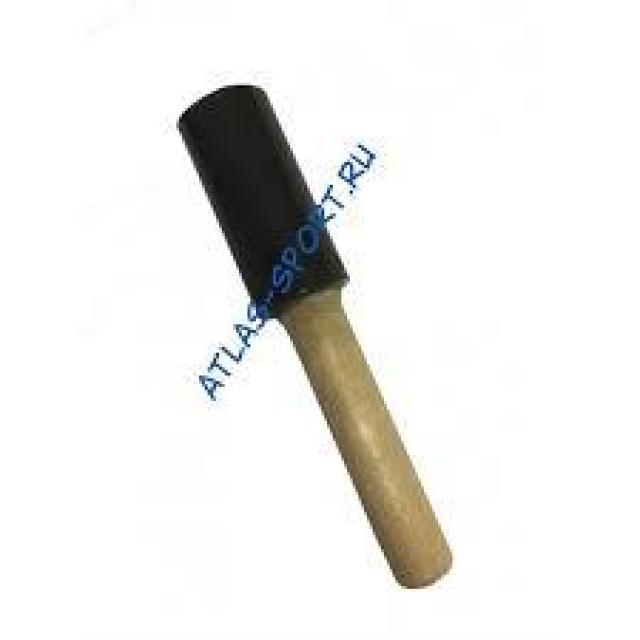grenade: (180, 86, 454, 591)
